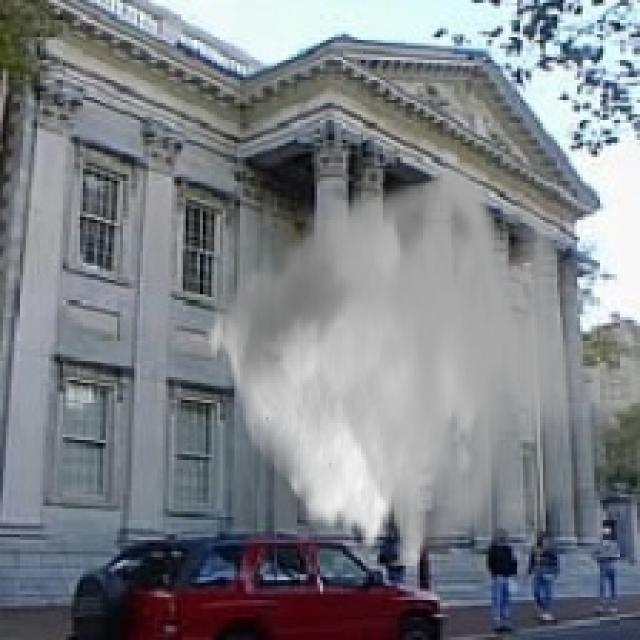Smoke: (203, 160, 586, 566)
